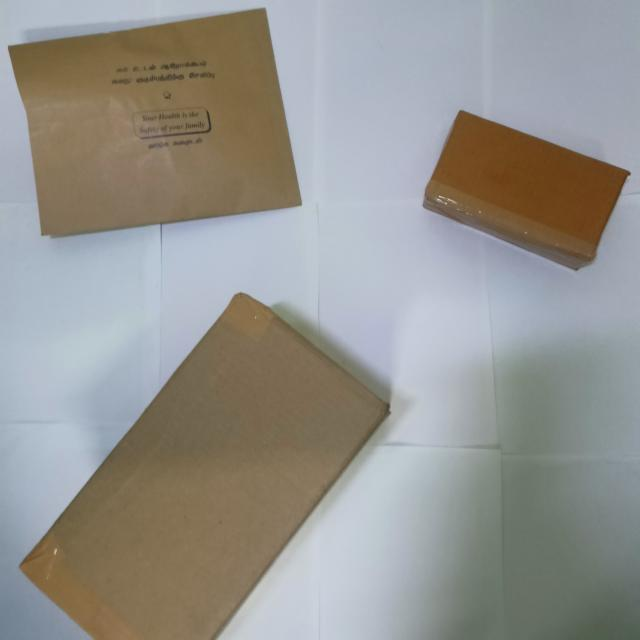box: (21, 294, 387, 640), (9, 9, 305, 241), (422, 111, 631, 274)
